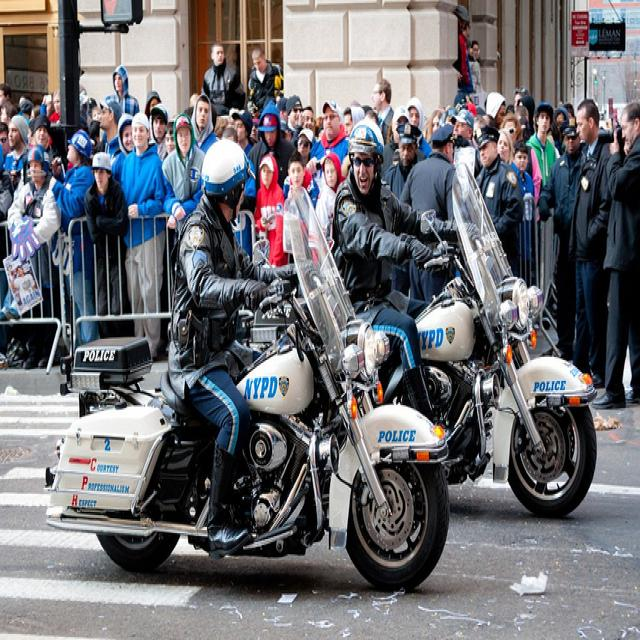motor: (40, 181, 452, 595), (414, 166, 598, 520)
